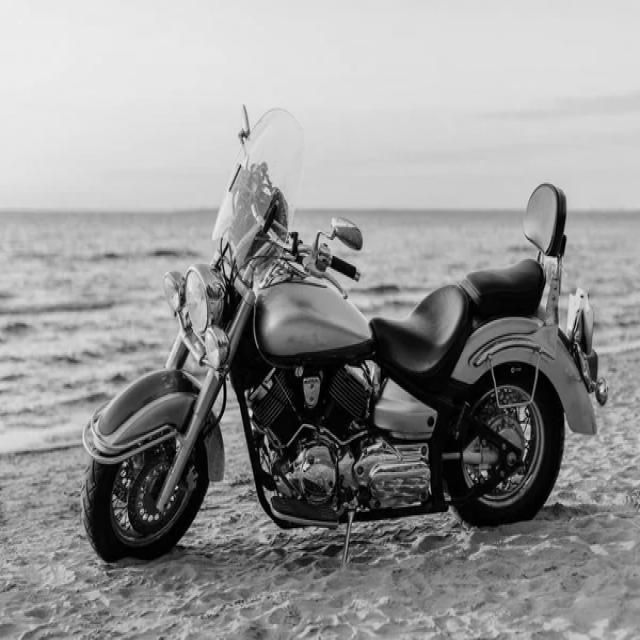Motorcycle: (81, 108, 608, 560)
